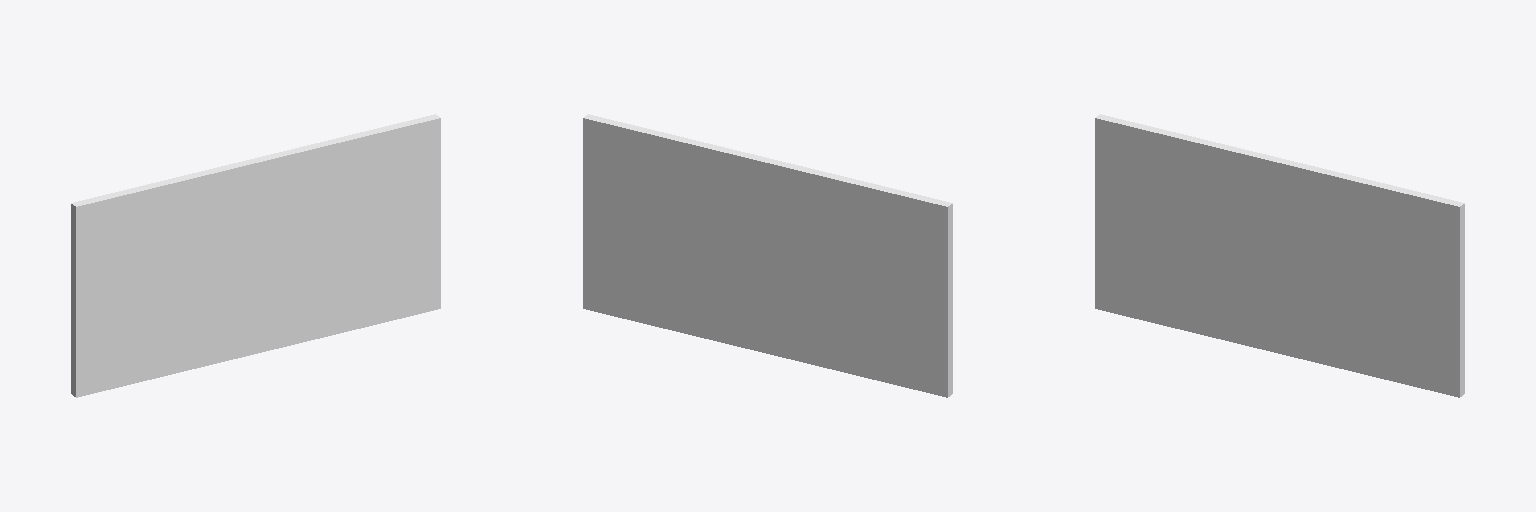
Rendered from Stage2_Parts3.obj.
3 views of the same model, side by side, from view 1: azimuth 30°, elevation 25°; view 2: azimuth 150°, elevation 25°; view 3: azimuth 330°, elevation 25° (orthographic).
Parts seen in each view (by area): view 1: object 1; view 2: object 1; view 3: object 1.
Boxes of the visible parts, box(x1,y1,x2,y2) form: object 1: box(71, 114, 440, 397); object 1: box(583, 114, 952, 397); object 1: box(1095, 114, 1464, 397).
Bounding box in the file's own units: 4 × 2 × 0.1.